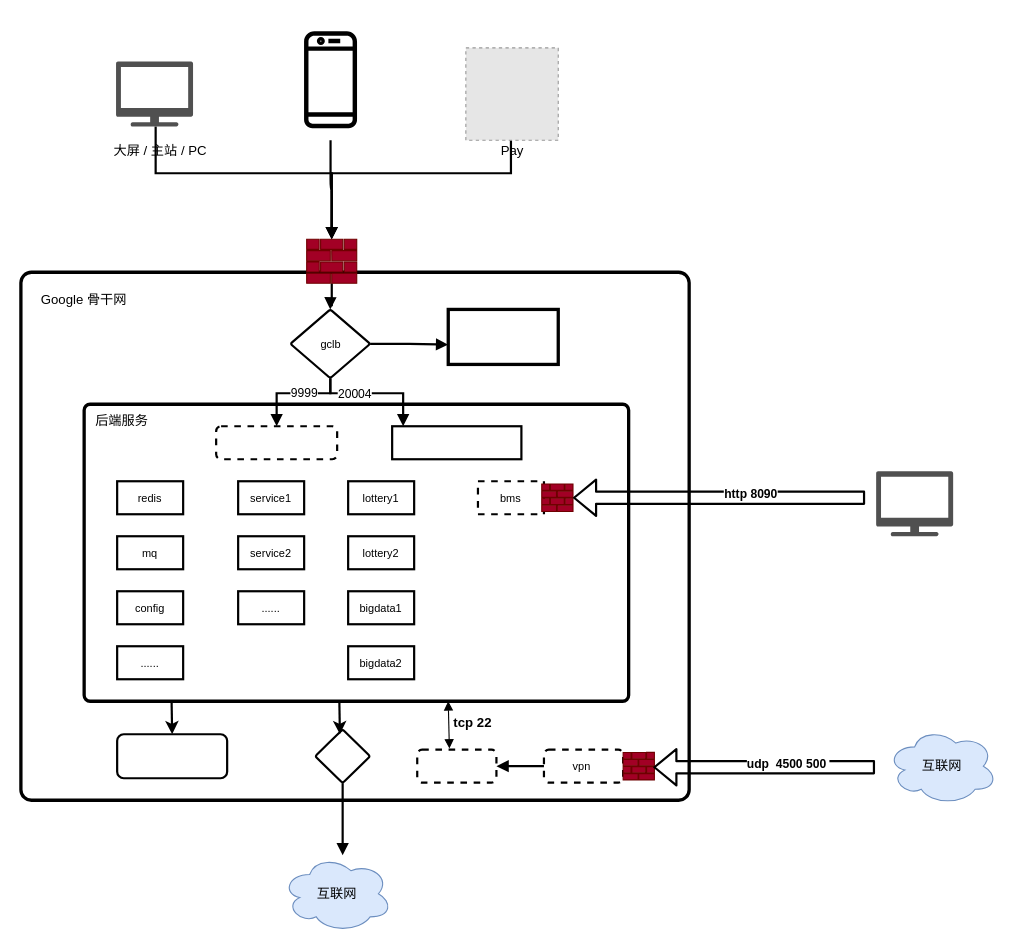
The diagram is 1016 pixels wide and 952 high, and some of its shapes have lost their labels. Grey dashed boxes stand in for pictures. The centre of each missing label's shape, as x and y in pixels:
bastion: [456,765]
cloudsql: [172,756]
H5 / APP: [330,79]
NAT: [342,756]
Ngix集群: [276,442]
storage: [502,336]
特定IP（公司、VPN）: [914,503]
网关集群: [456,442]
